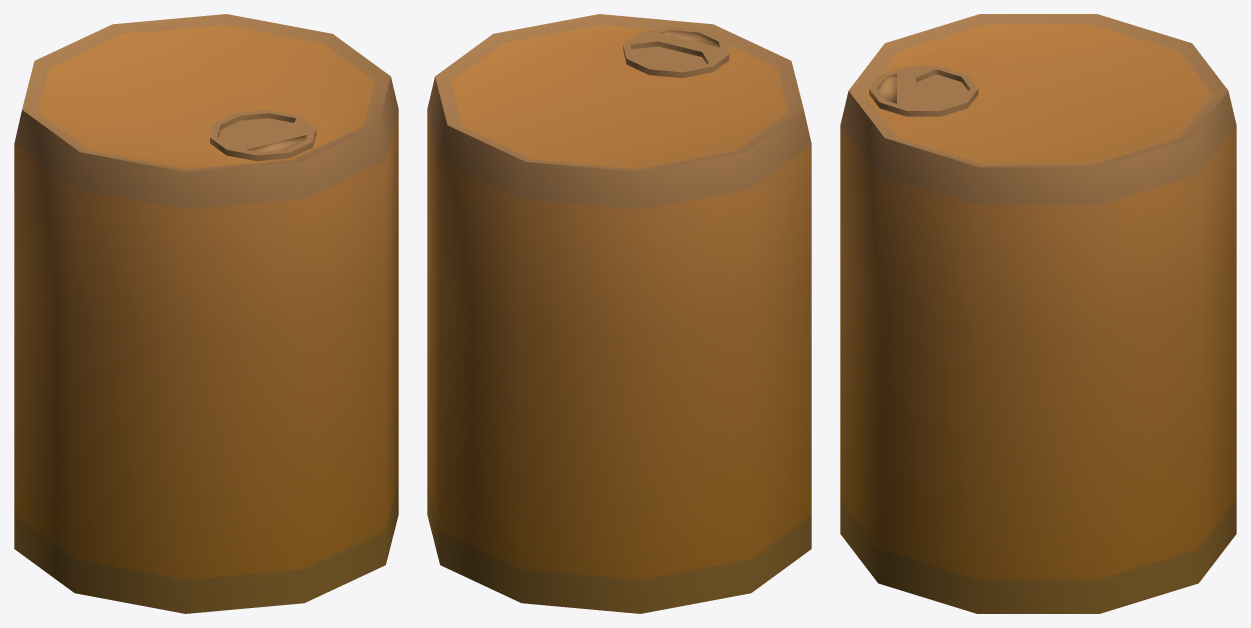
The model's file is can_food_orange.fbx.
3 views of the same model, side by side, from view 1: azimuth 30°, elevation 25°; view 2: azimuth 150°, elevation 25°; view 3: azimuth 270°, elevation 25° (orthographic).
Visible parts, largest first — view 1: can_food_orange; view 2: can_food_orange; view 3: can_food_orange.
Boxes of the visible parts, x1,y1,x2,y2 form: can_food_orange: (14,14,398,613); can_food_orange: (427,14,811,613); can_food_orange: (840,14,1236,613).
Size of the model in its own units: 104 by 135 by 109.
